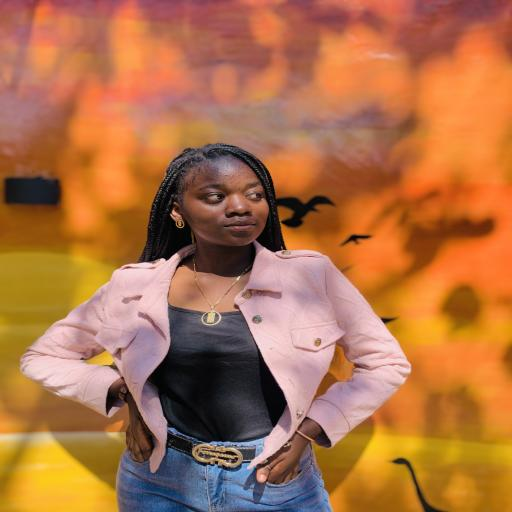LAURENE: (140, 140, 294, 263)
